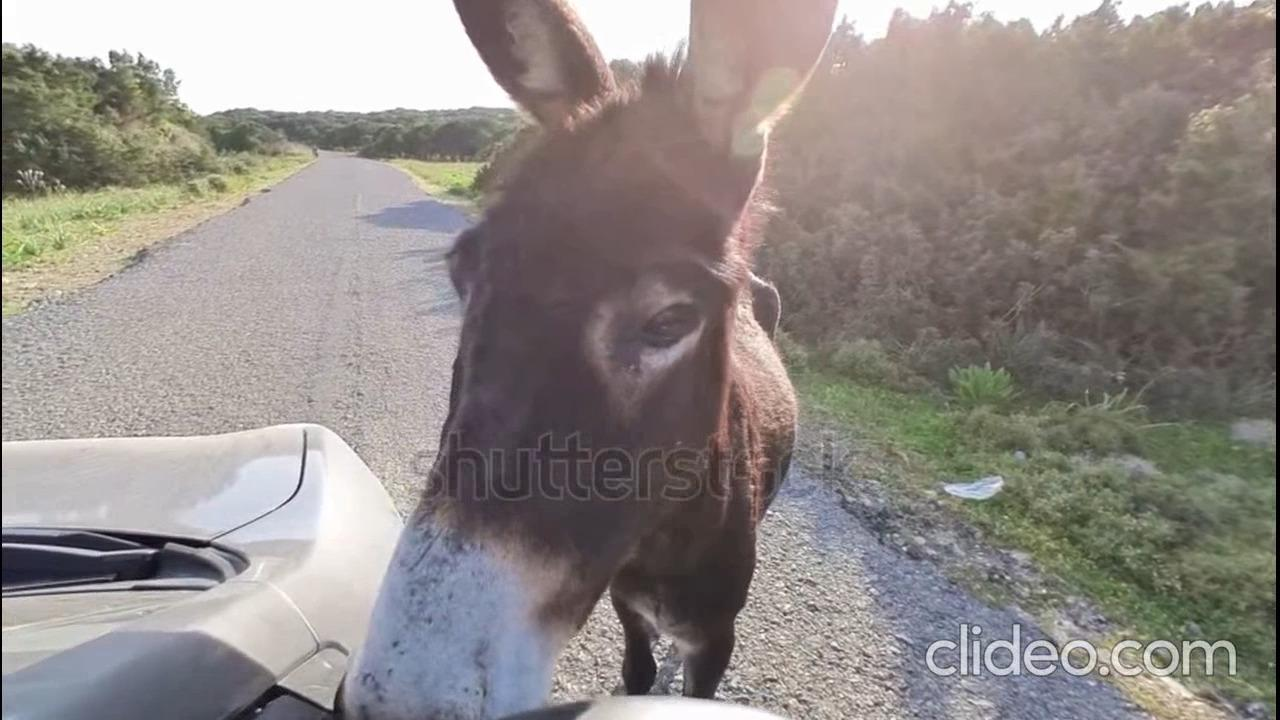Donkey: (346, 2, 795, 720)
